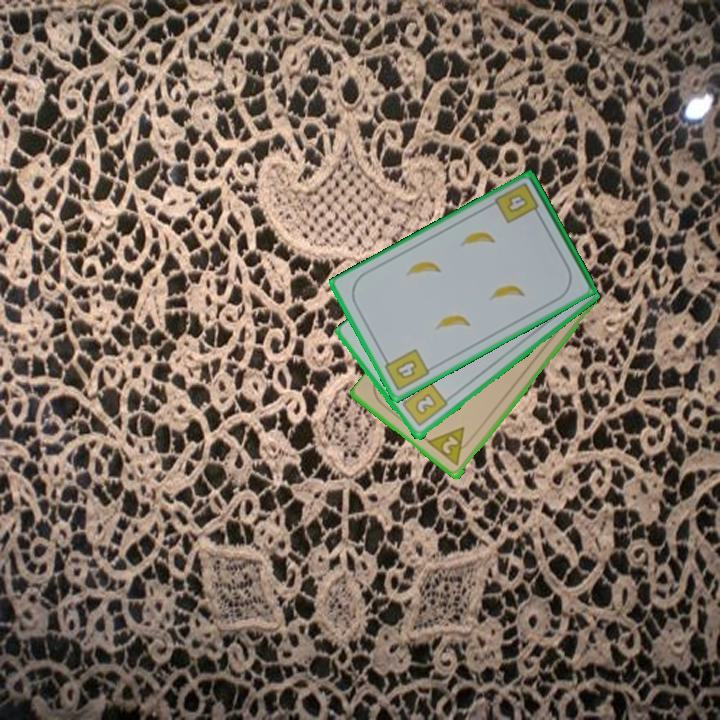2b: (397, 379, 450, 430)
2p: (425, 423, 476, 470)
4b: (379, 345, 432, 394), (491, 179, 544, 227)
